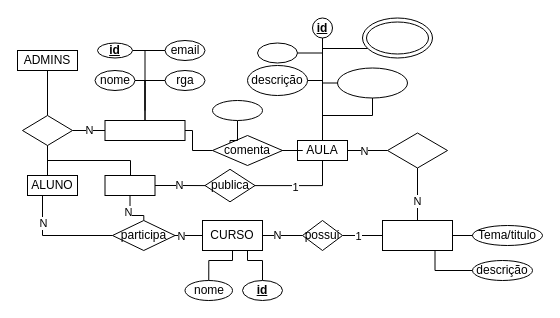
This 560x318 diagram has some shape labels left out. The box of each missing label's shape, as (x1, y1, x2, y2) in pixels:
categoria: (362, 17, 432, 58)
contém: (386, 132, 448, 168)
link_video: (336, 67, 408, 98)
PLAYLISTS: (382, 220, 452, 250)
priv: (22, 114, 72, 146)
PROFE.: (104, 174, 155, 196)
texto: (212, 100, 262, 120)
titulo: (256, 42, 298, 63)
USUARIO: (104, 120, 185, 140)
